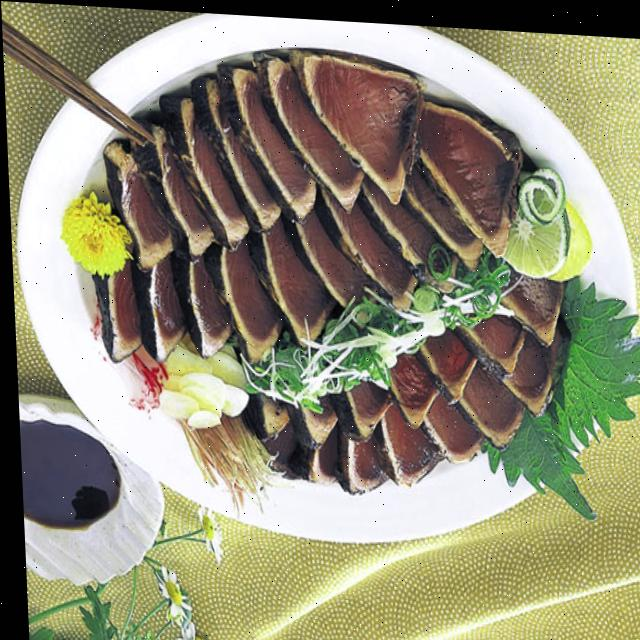熟制海鲜: (42, 2, 640, 546)
